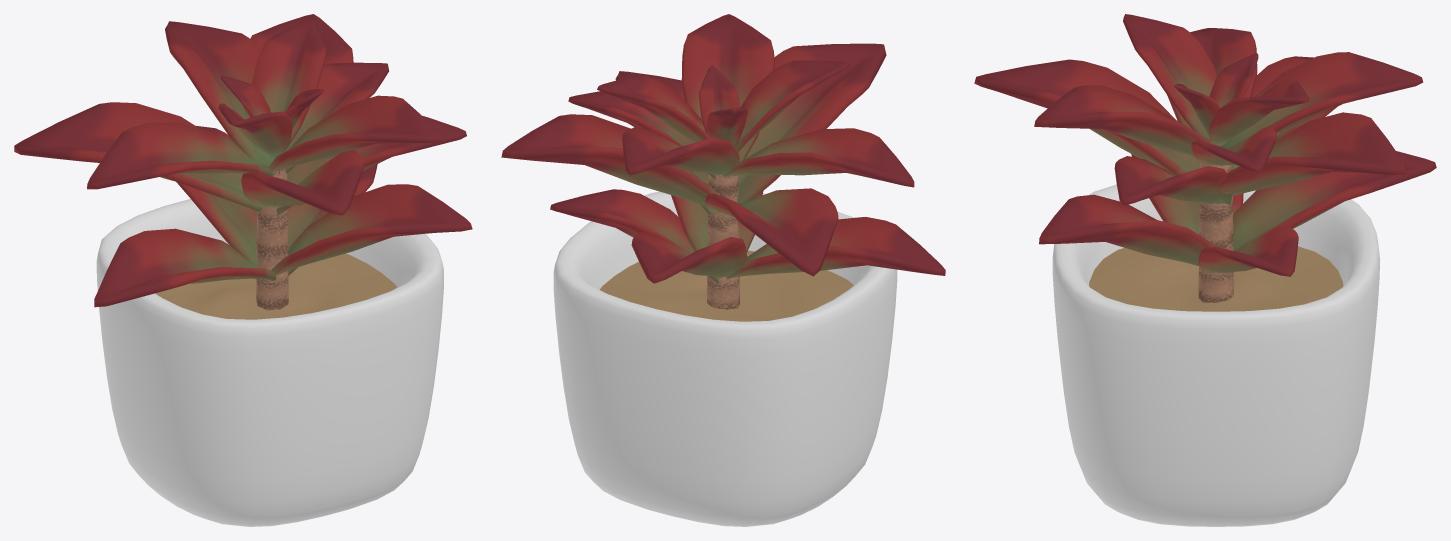
Rendered from plant-4.glb.
The picture shows the model from 3 angles, left to right: view 1: azimuth 30°, elevation 25°; view 2: azimuth 150°, elevation 25°; view 3: azimuth 270°, elevation 25°; orthographic projection. The views are drawn at different scales.
Parts seen in each view (by area): view 1: Pot003, momijimaturi; view 2: Pot003, momijimaturi; view 3: Pot003, momijimaturi.
Boxes of the visible parts, left/top/right/bottom form: Pot003: left=96, top=199, right=443, bottom=526; momijimaturi: left=14, top=14, right=472, bottom=310; Pot003: left=553, top=191, right=897, bottom=526; momijimaturi: left=501, top=14, right=945, bottom=309; Pot003: left=1052, top=184, right=1379, bottom=526; momijimaturi: left=974, top=14, right=1436, bottom=302.
Size of the model in its own units: 0.7112 by 0.804 by 0.7794.
Materials: 3 (1 with a texture image).
